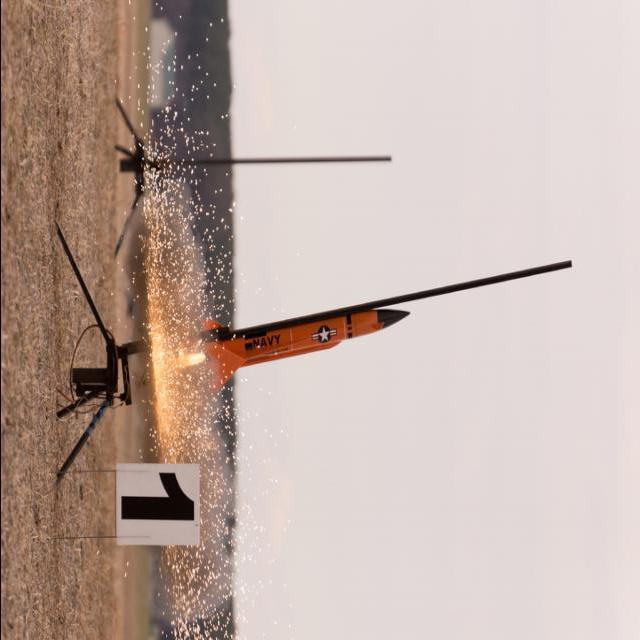missile: (202, 303, 416, 383)
